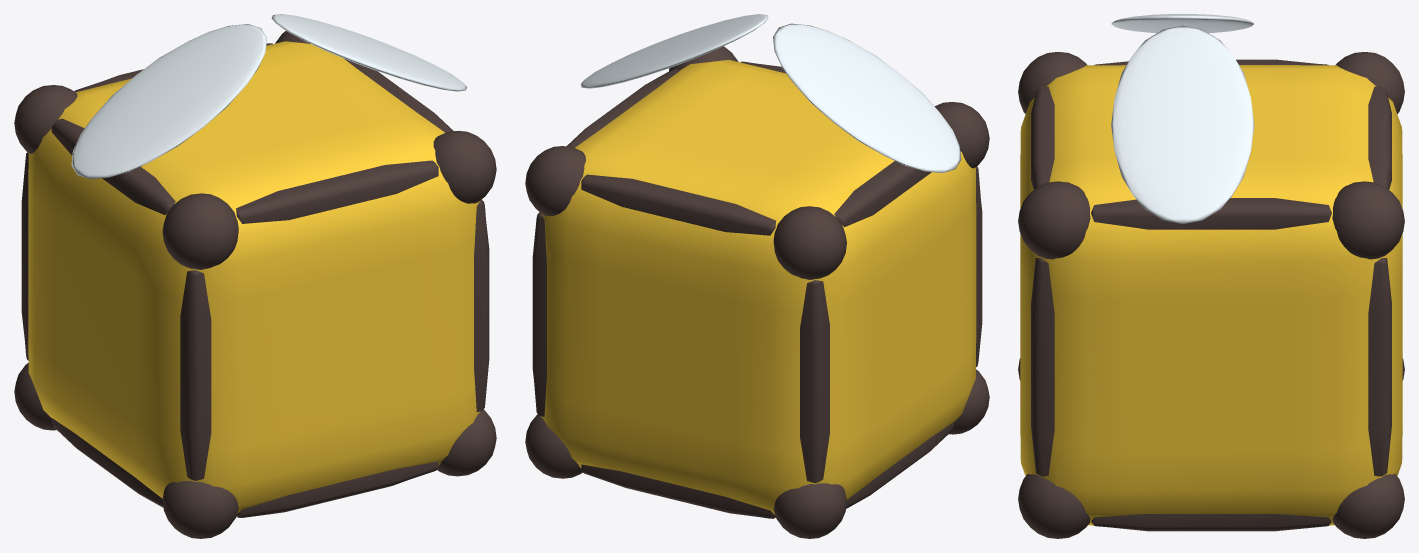
The model's file is HoneyDice.obj.
3 views of the same model, side by side, from view 1: azimuth 30°, elevation 25°; view 2: azimuth 150°, elevation 25°; view 3: azimuth 270°, elevation 25° (orthographic). The views are drawn at different scales.
Visible parts, largest first — view 1: Block, Trim, Wings; view 2: Block, Trim, Wings; view 3: Block, Trim, Wings.
Boxes of the visible parts, box(x1,y1,x2,y2) form: Block: box(28, 41, 482, 517); Trim: box(14, 31, 496, 538); Wings: box(71, 14, 466, 179); Block: box(539, 59, 976, 518); Trim: box(525, 46, 989, 538); Wings: box(580, 14, 961, 172); Block: box(1020, 65, 1402, 525); Trim: box(1018, 52, 1404, 538); Wings: box(1111, 14, 1254, 223).
Bounding box in the file's own units: 4.8 × 5.18 × 4.05.
